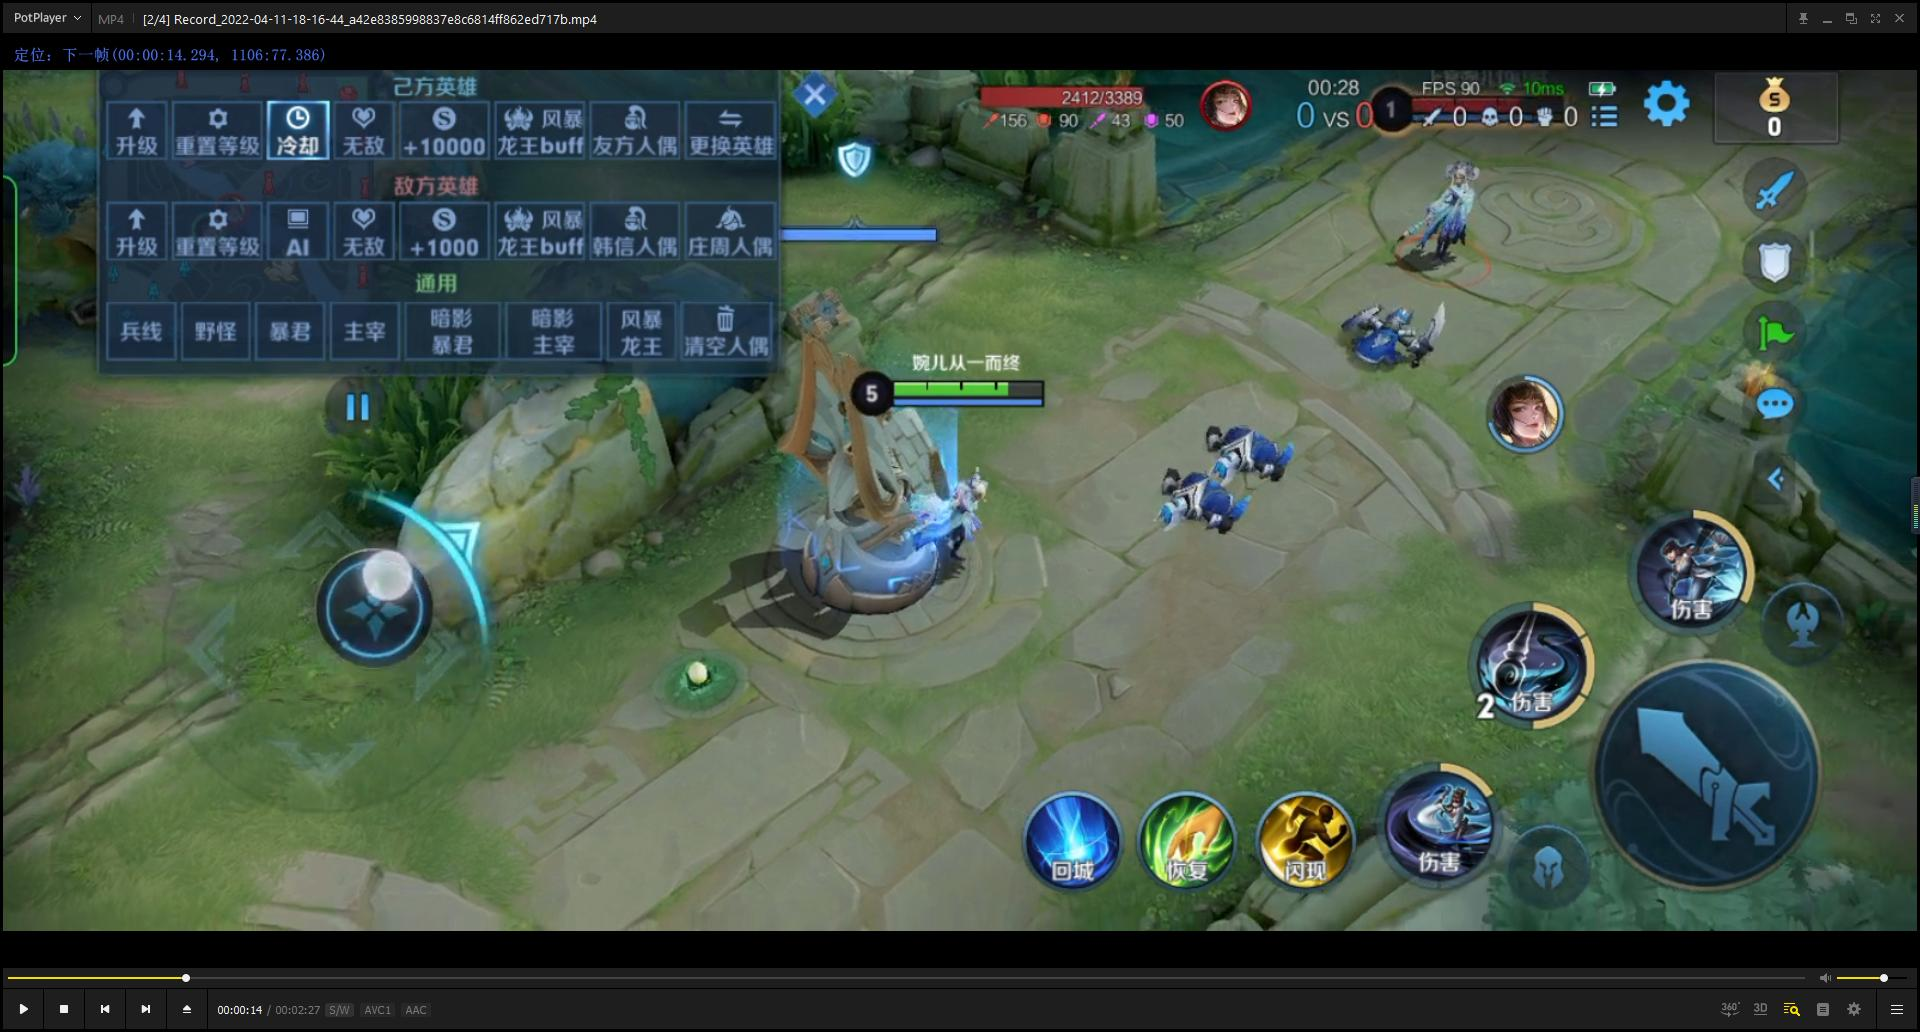Hero: (1379, 153, 1506, 277), (919, 454, 1029, 577)
Solider: (1305, 277, 1456, 389), (1169, 403, 1324, 499), (1128, 447, 1267, 549)
Tower: (745, 205, 1000, 652)
